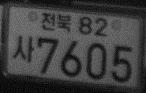0: (85, 41, 107, 80)
2: (93, 16, 108, 37)
5: (110, 44, 133, 83)
6: (60, 39, 83, 78)
7: (36, 36, 59, 74)
8: (77, 15, 92, 34)
사: (12, 34, 35, 63)
전북_H: (40, 11, 72, 33)
